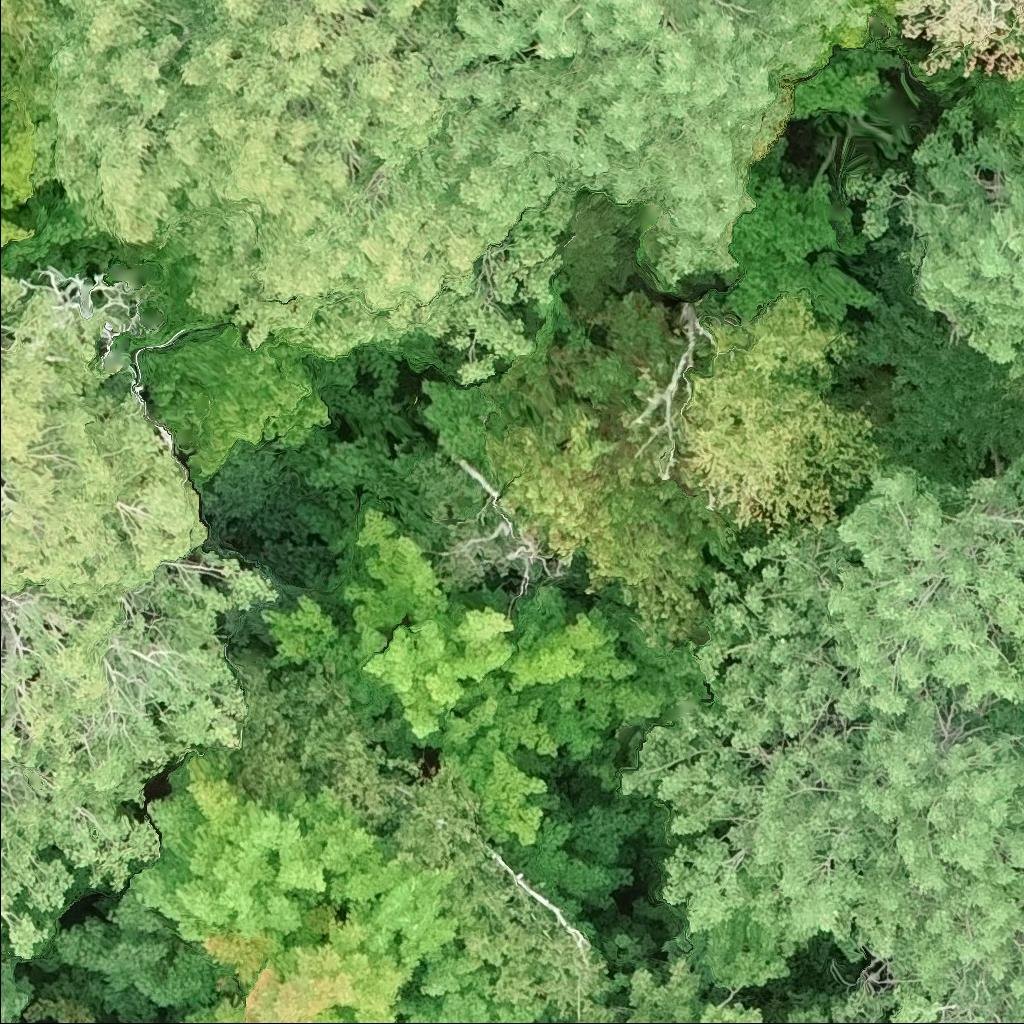crown: (25, 0, 876, 390), (614, 526, 1023, 999), (0, 261, 276, 958), (54, 744, 546, 1023), (233, 661, 602, 1023), (483, 396, 768, 653), (261, 504, 519, 746), (825, 452, 1023, 736), (672, 287, 895, 536), (847, 100, 1023, 379), (497, 582, 707, 766), (427, 669, 562, 851), (579, 957, 768, 1023), (860, 967, 1023, 1023), (0, 106, 40, 249), (968, 72, 1023, 163), (41, 998, 98, 1023), (995, 703, 1023, 743), (0, 86, 8, 123)
